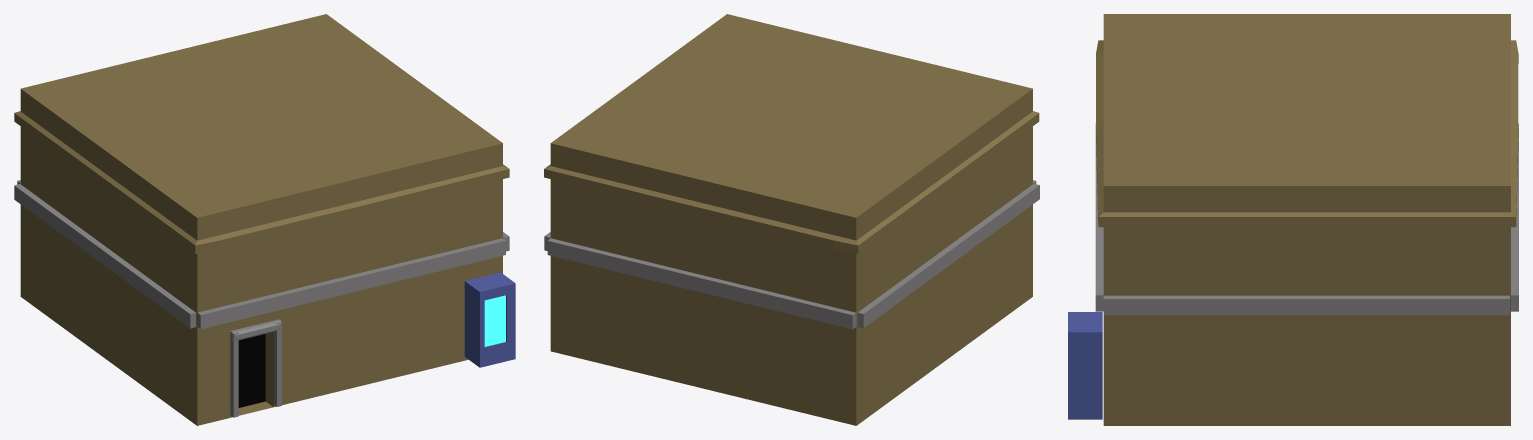
3 views of the same model, side by side, from view 1: azimuth 30°, elevation 25°; view 2: azimuth 150°, elevation 25°; view 3: azimuth 270°, elevation 25° (orthographic). The views are drawn at different scales.
Parts seen in each view (by area): view 1: Cube, Cube.006, Cube.011, Cube.007, Cube.001, Cube.008, Cube.004, Cube.005, Cube.002; view 2: Cube, Cube.009, Cube.011; view 3: Cube, Cube.010, Cube.007, Cube.006, Cube.009.
Boxes of the visible parts, x1=… form: Cube: x1=14, y1=14, x2=509, y2=425; Cube.006: x1=197, y1=238, x2=505, y2=329; Cube.011: x1=14, y1=184, x2=196, y2=328; Cube.007: x1=464, y1=272, x2=515, y2=367; Cube.001: x1=238, y1=334, x2=265, y2=407; Cube.008: x1=484, y1=295, x2=505, y2=346; Cube.004: x1=230, y1=332, x2=238, y2=417; Cube.005: x1=273, y1=322, x2=281, y2=406; Cube.002: x1=230, y1=319, x2=280, y2=341; Cube: x1=544, y1=14, x2=1039, y2=425; Cube.009: x1=547, y1=238, x2=856, y2=329; Cube.011: x1=857, y1=183, x2=1039, y2=328; Cube: x1=1096, y1=14, x2=1518, y2=425; Cube.010: x1=1103, y1=295, x2=1509, y2=315; Cube.007: x1=1068, y1=312, x2=1102, y2=419; Cube.006: x1=1095, y1=123, x2=1103, y2=311; Cube.009: x1=1511, y1=123, x2=1518, y2=311.
Size of what is drawn, in the model's own units: 13 by 8.1 by 13.8.
